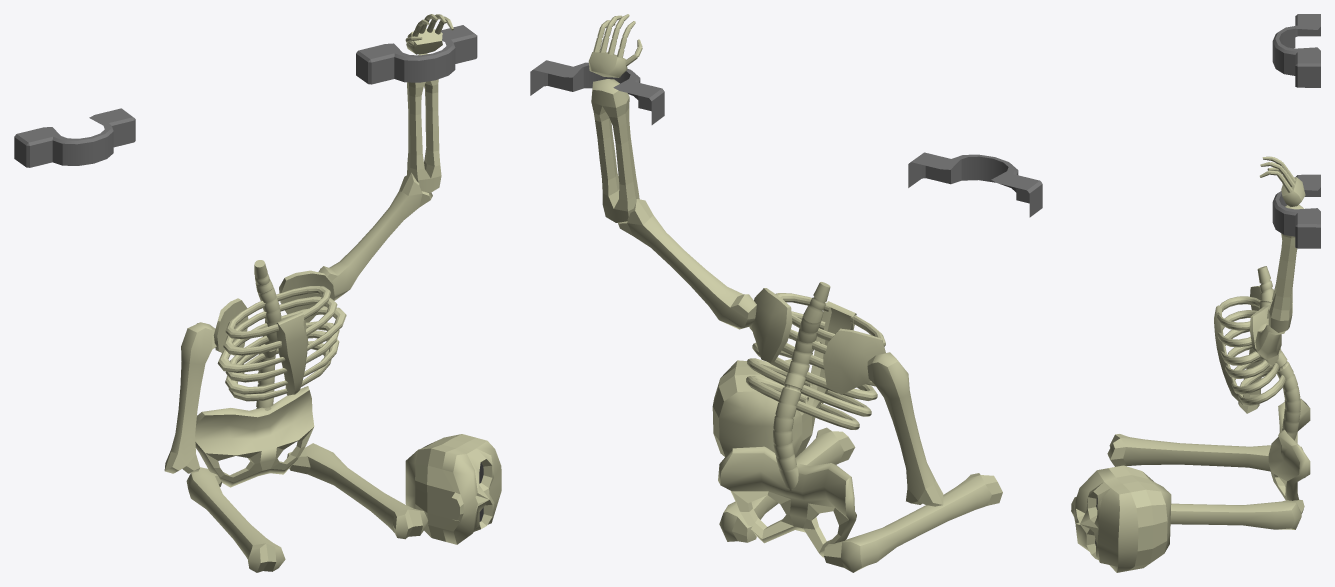
The model's file is Cadaver4.fbx.
The picture shows the model from 3 angles, left to right: view 1: azimuth 30°, elevation 25°; view 2: azimuth 150°, elevation 25°; view 3: azimuth 270°, elevation 25°; orthographic projection. The views are drawn at different scales.
Visible parts, largest first — view 1: polySurface142; view 2: polySurface142; view 3: polySurface142.
Boxes of the visible parts, <box> form: polySurface142: <box>14,14,501,572</box>; polySurface142: <box>530,14,1042,572</box>; polySurface142: <box>1071,14,1320,572</box>.
Size of the model in its own units: 278 by 263 by 138.
